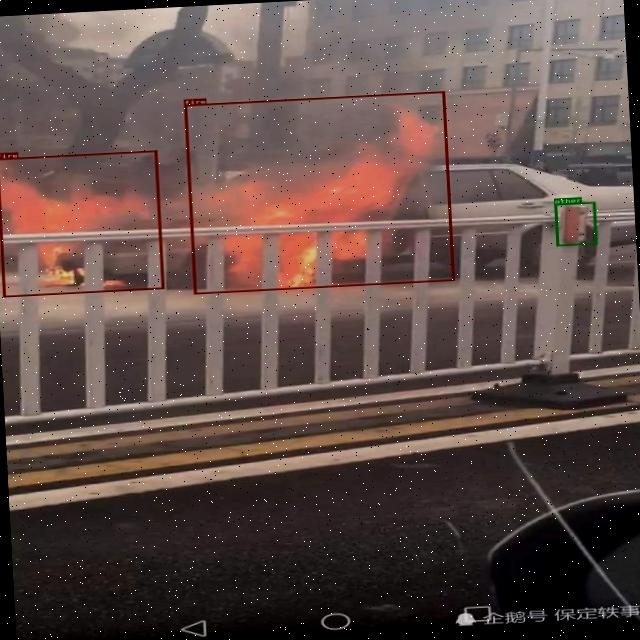fire: (184, 92, 455, 294), (0, 150, 164, 297)
